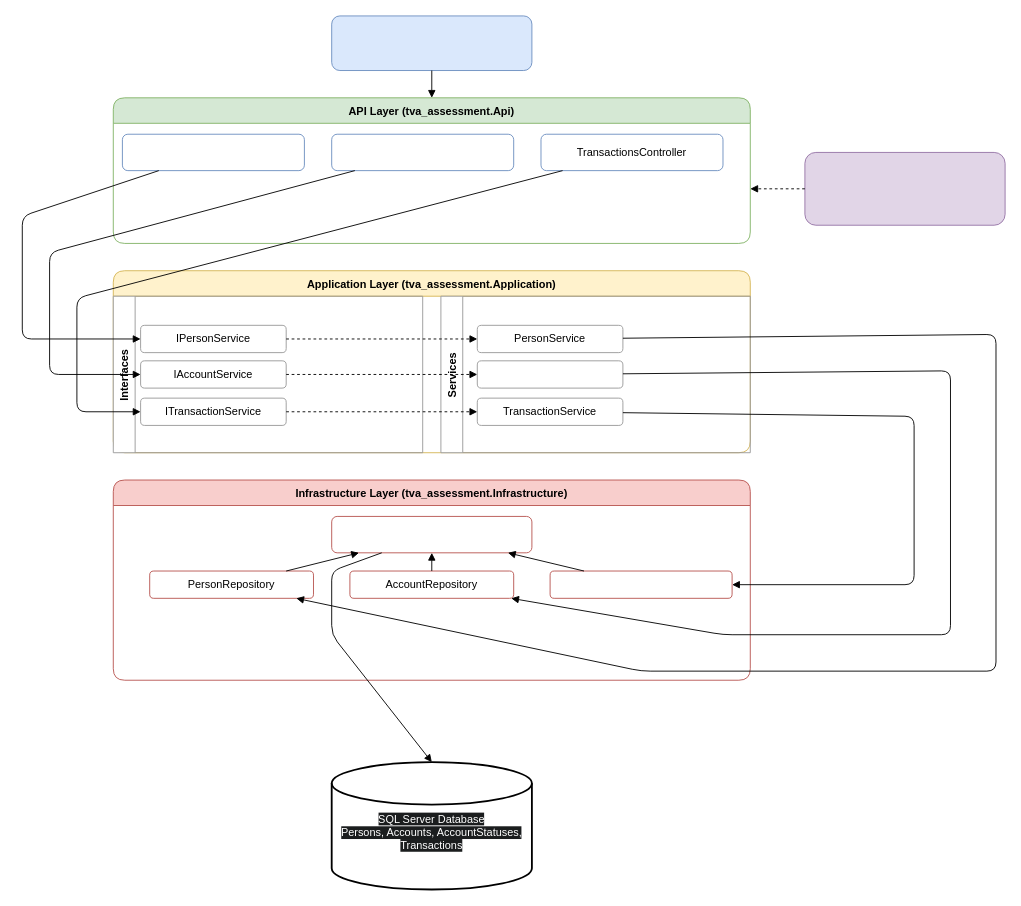
The diagram is 1021 pixels wide and 906 high, and some of its shapes have lost their labels. The centre of each missing label's shape, as x and y in pixels:
"AccountsController" goes at point 422,152.
"AccountService" goes at point 549,374.
"ApplicationDbContext (EF Core)" goes at point 431,534.
"ExceptionHandlingMiddleware (Global error handling)" goes at point 904,188.
"PersonsController" goes at point 212,152.
"Postman / Frontend SPA HTTP / JSON over REST" goes at point 431,43.
"TransactionRepository" goes at point 640,584.
